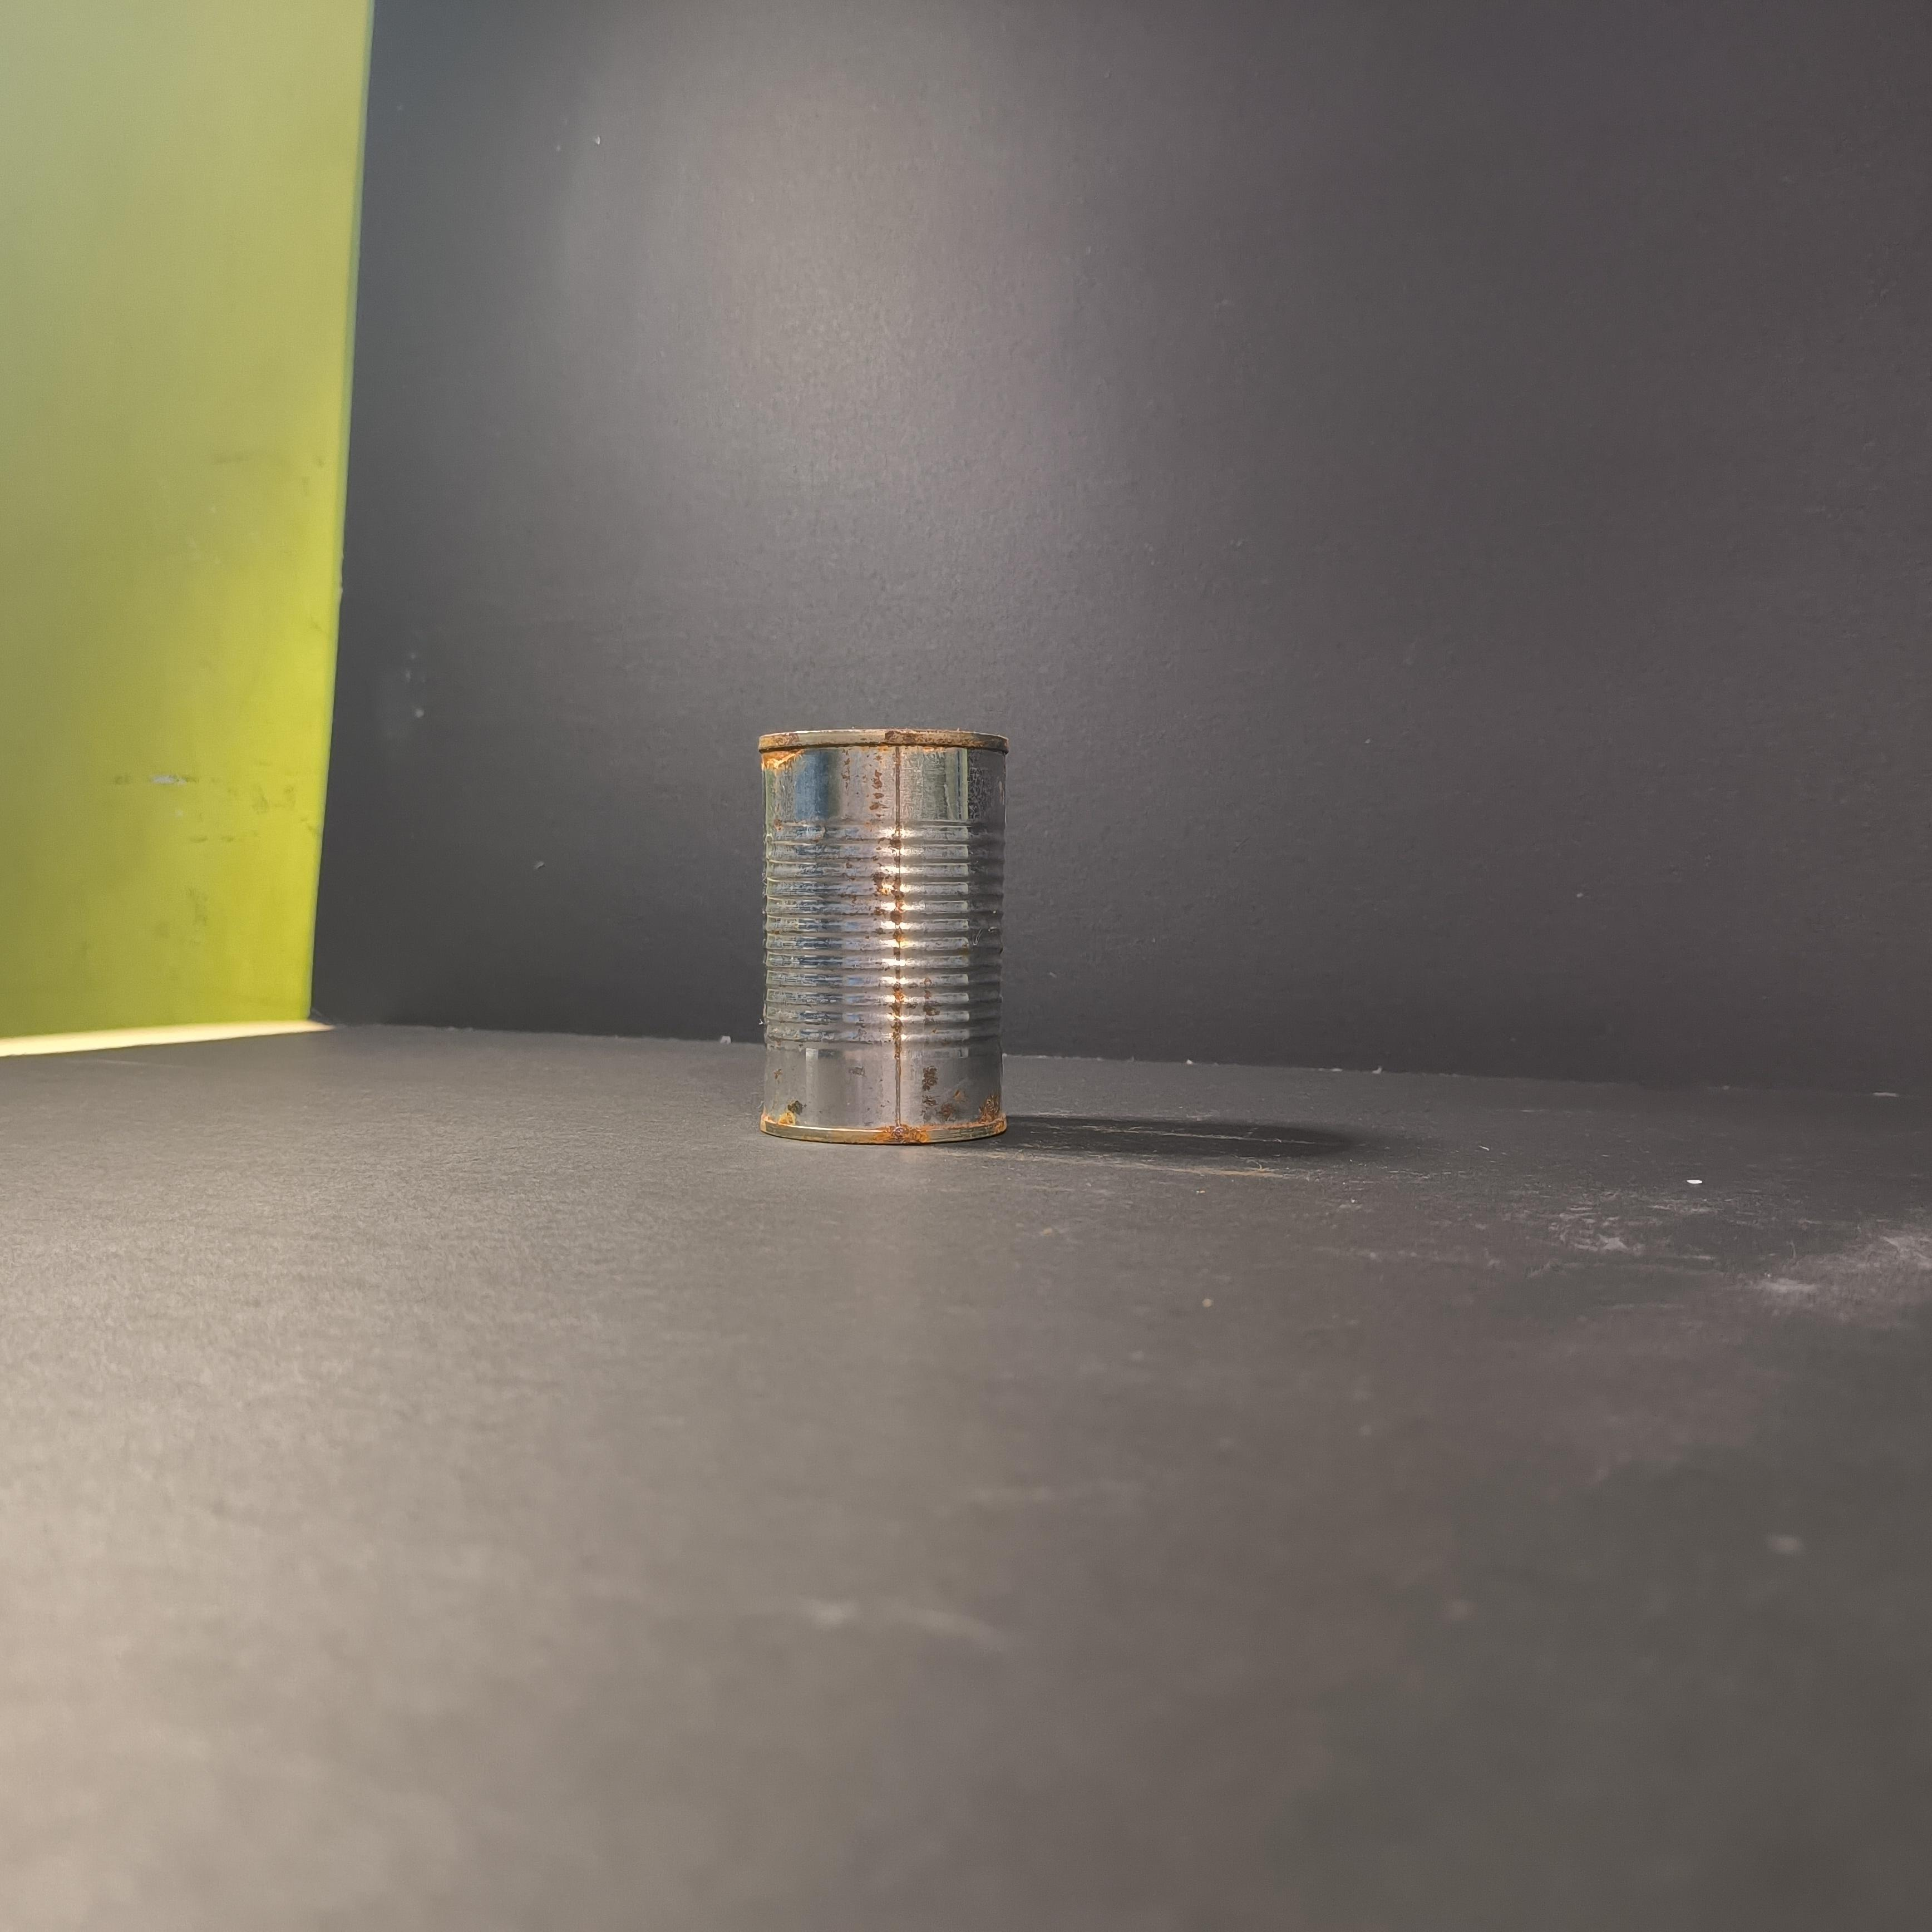Rusted: (743, 715, 1032, 1174)
